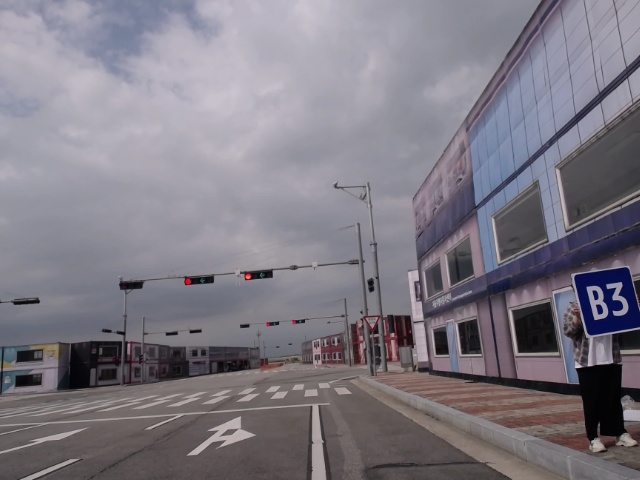delivery_b3: (569, 270, 639, 337)
left_green_4: (182, 274, 217, 287), (244, 271, 278, 280), (264, 321, 284, 329), (292, 318, 309, 324)
